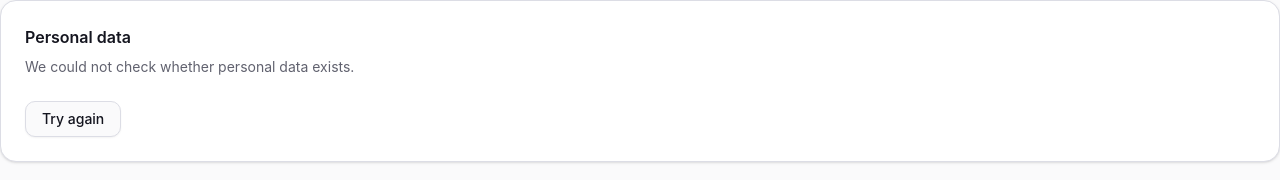
DeletePersonalDataCard › shows a retry action instead of claiming the account is empty when the check fails
The image size is (1280, 180).
Click the button "Try again": (73, 119) [25, 101, 121, 137]
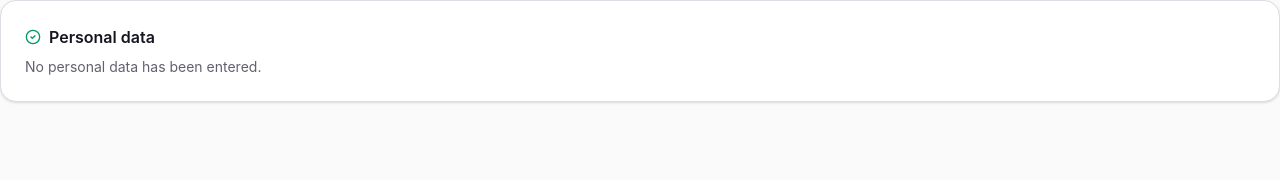
Expected: the text "No personal data has been entered." is shown, [25, 58, 261, 75]
